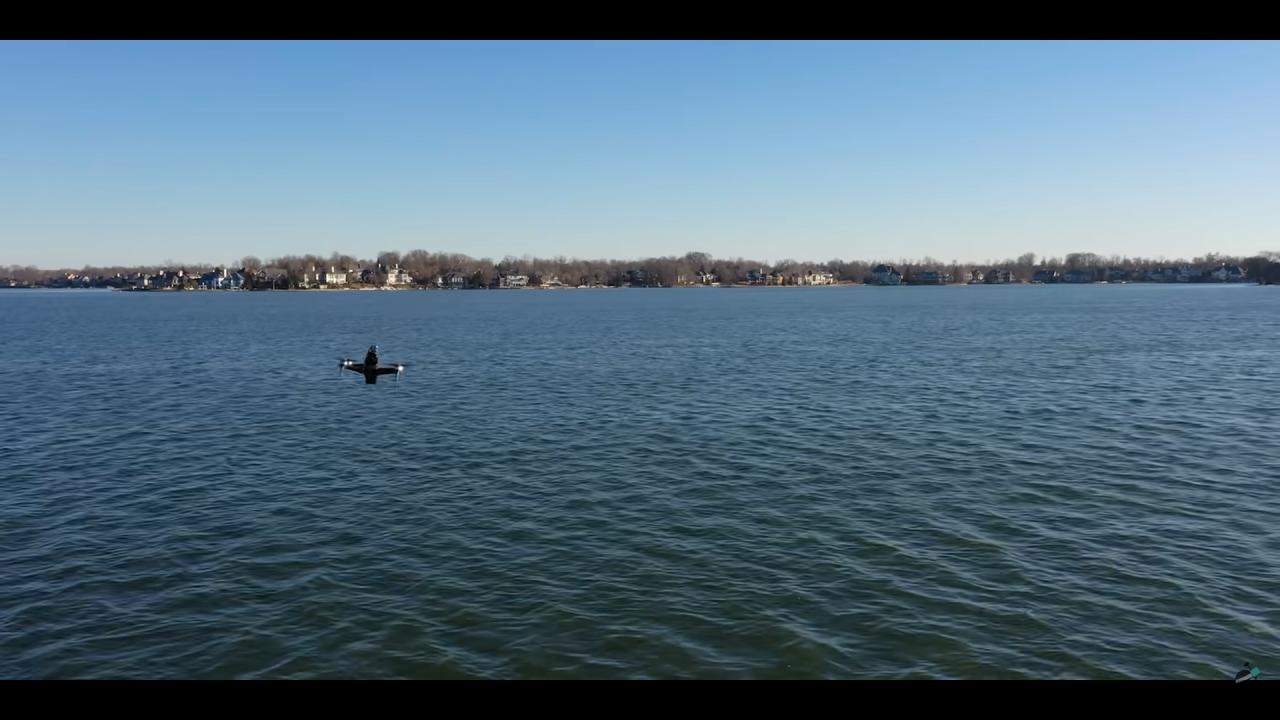Drone: (321, 339, 423, 397)
